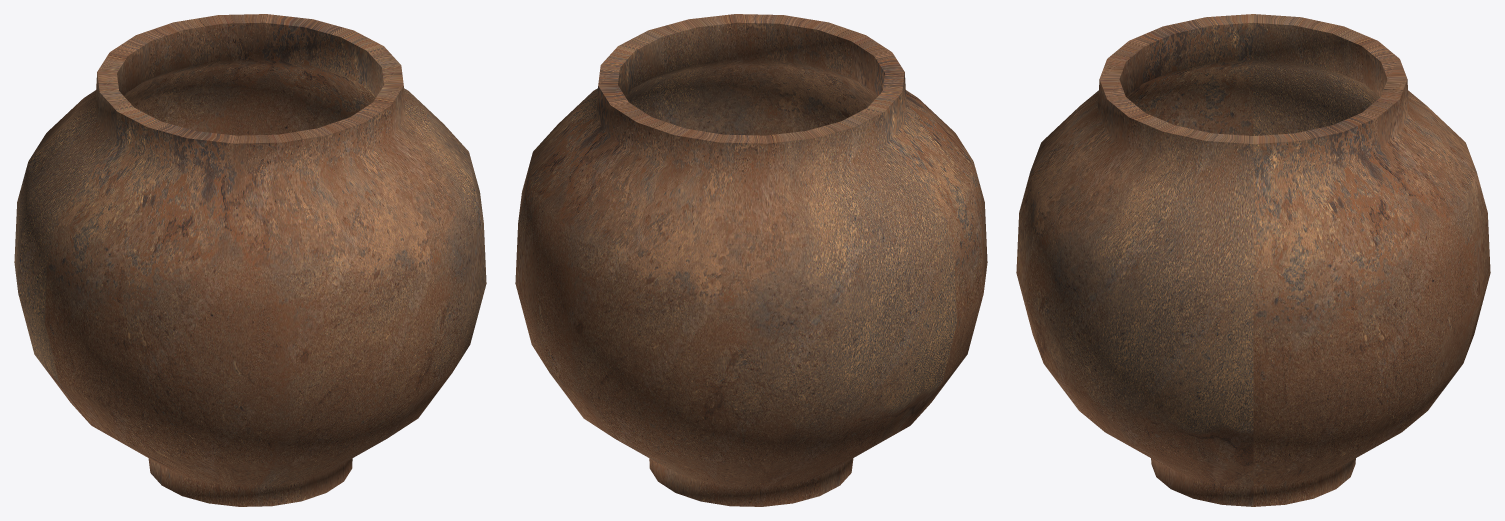
Rendered from Jar2.fbx.
The picture shows the model from 3 angles, left to right: view 1: azimuth 30°, elevation 25°; view 2: azimuth 150°, elevation 25°; view 3: azimuth 270°, elevation 25°; orthographic projection.
Parts seen in each view (by area): view 1: pCylinder6; view 2: pCylinder6; view 3: pCylinder6.
Part boxes in pixels (bbox=[...]): pCylinder6: bbox=[14, 14, 486, 506]; pCylinder6: bbox=[515, 14, 987, 506]; pCylinder6: bbox=[1016, 14, 1490, 506].
Size of the model in its own units: 9.02 by 8.08 by 9.02.
Materials: 1 (1 with a texture image).
